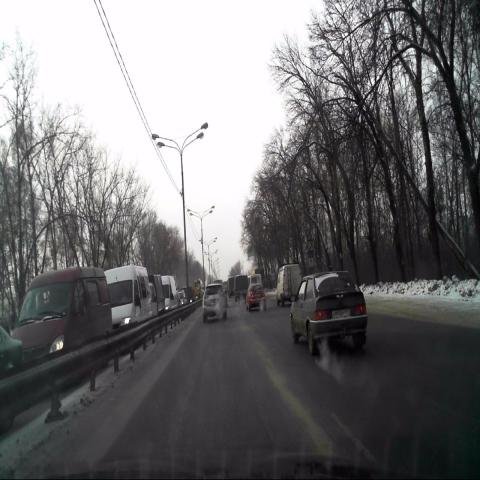7_6: (307, 240, 314, 256)
7_7: (308, 256, 314, 272)
